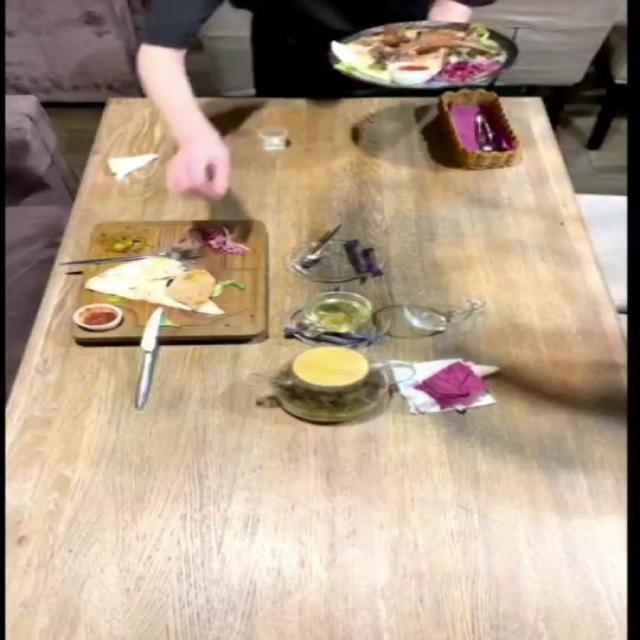meat: (348, 10, 522, 116)
tea: (255, 349, 413, 417)
